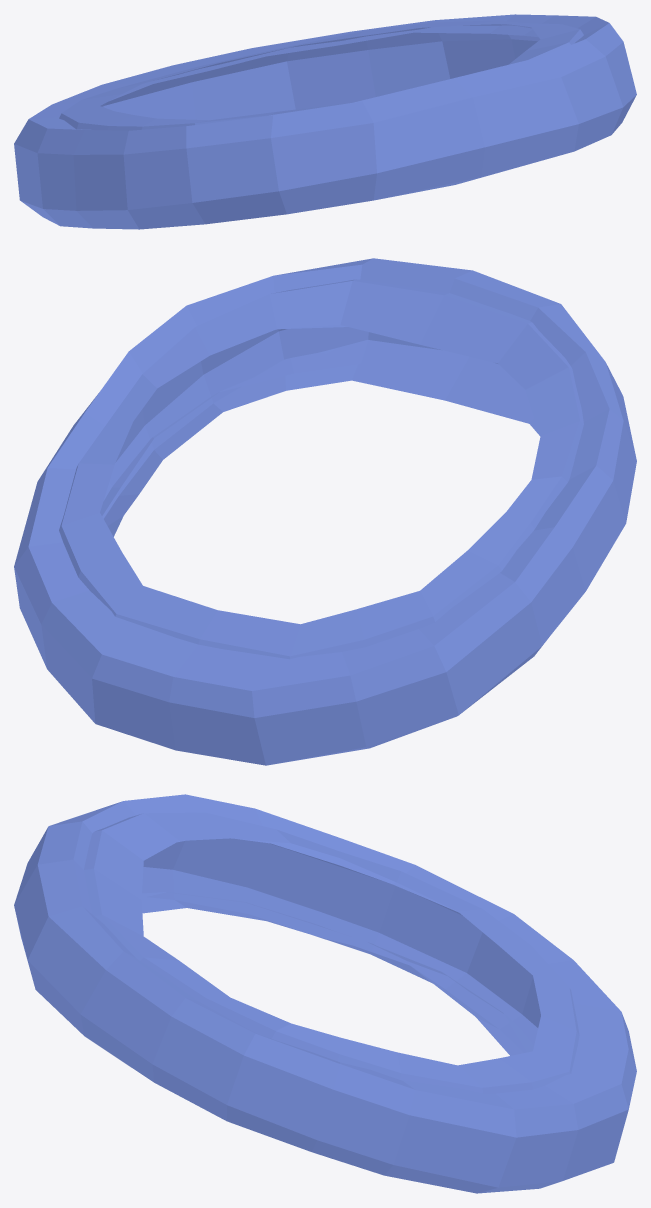
Rendered from headband.glb.
3 renders of one model, top to bottom at view 1: azimuth 30°, elevation 25°; view 2: azimuth 150°, elevation 25°; view 3: azimuth 270°, elevation 25°, orthographic.
Parts seen in each view (by area): view 1: normal, small; view 2: normal, small; view 3: normal, small.
Part boxes in pixels (bbox=[...]): normal: bbox=[14, 14, 636, 229]; small: bbox=[59, 20, 583, 130]; normal: bbox=[14, 258, 636, 765]; small: bbox=[59, 279, 583, 659]; normal: bbox=[14, 794, 636, 1193]; small: bbox=[84, 812, 579, 1093].
Size of the model in its own units: 1.53 by 0.7971 by 1.64.
